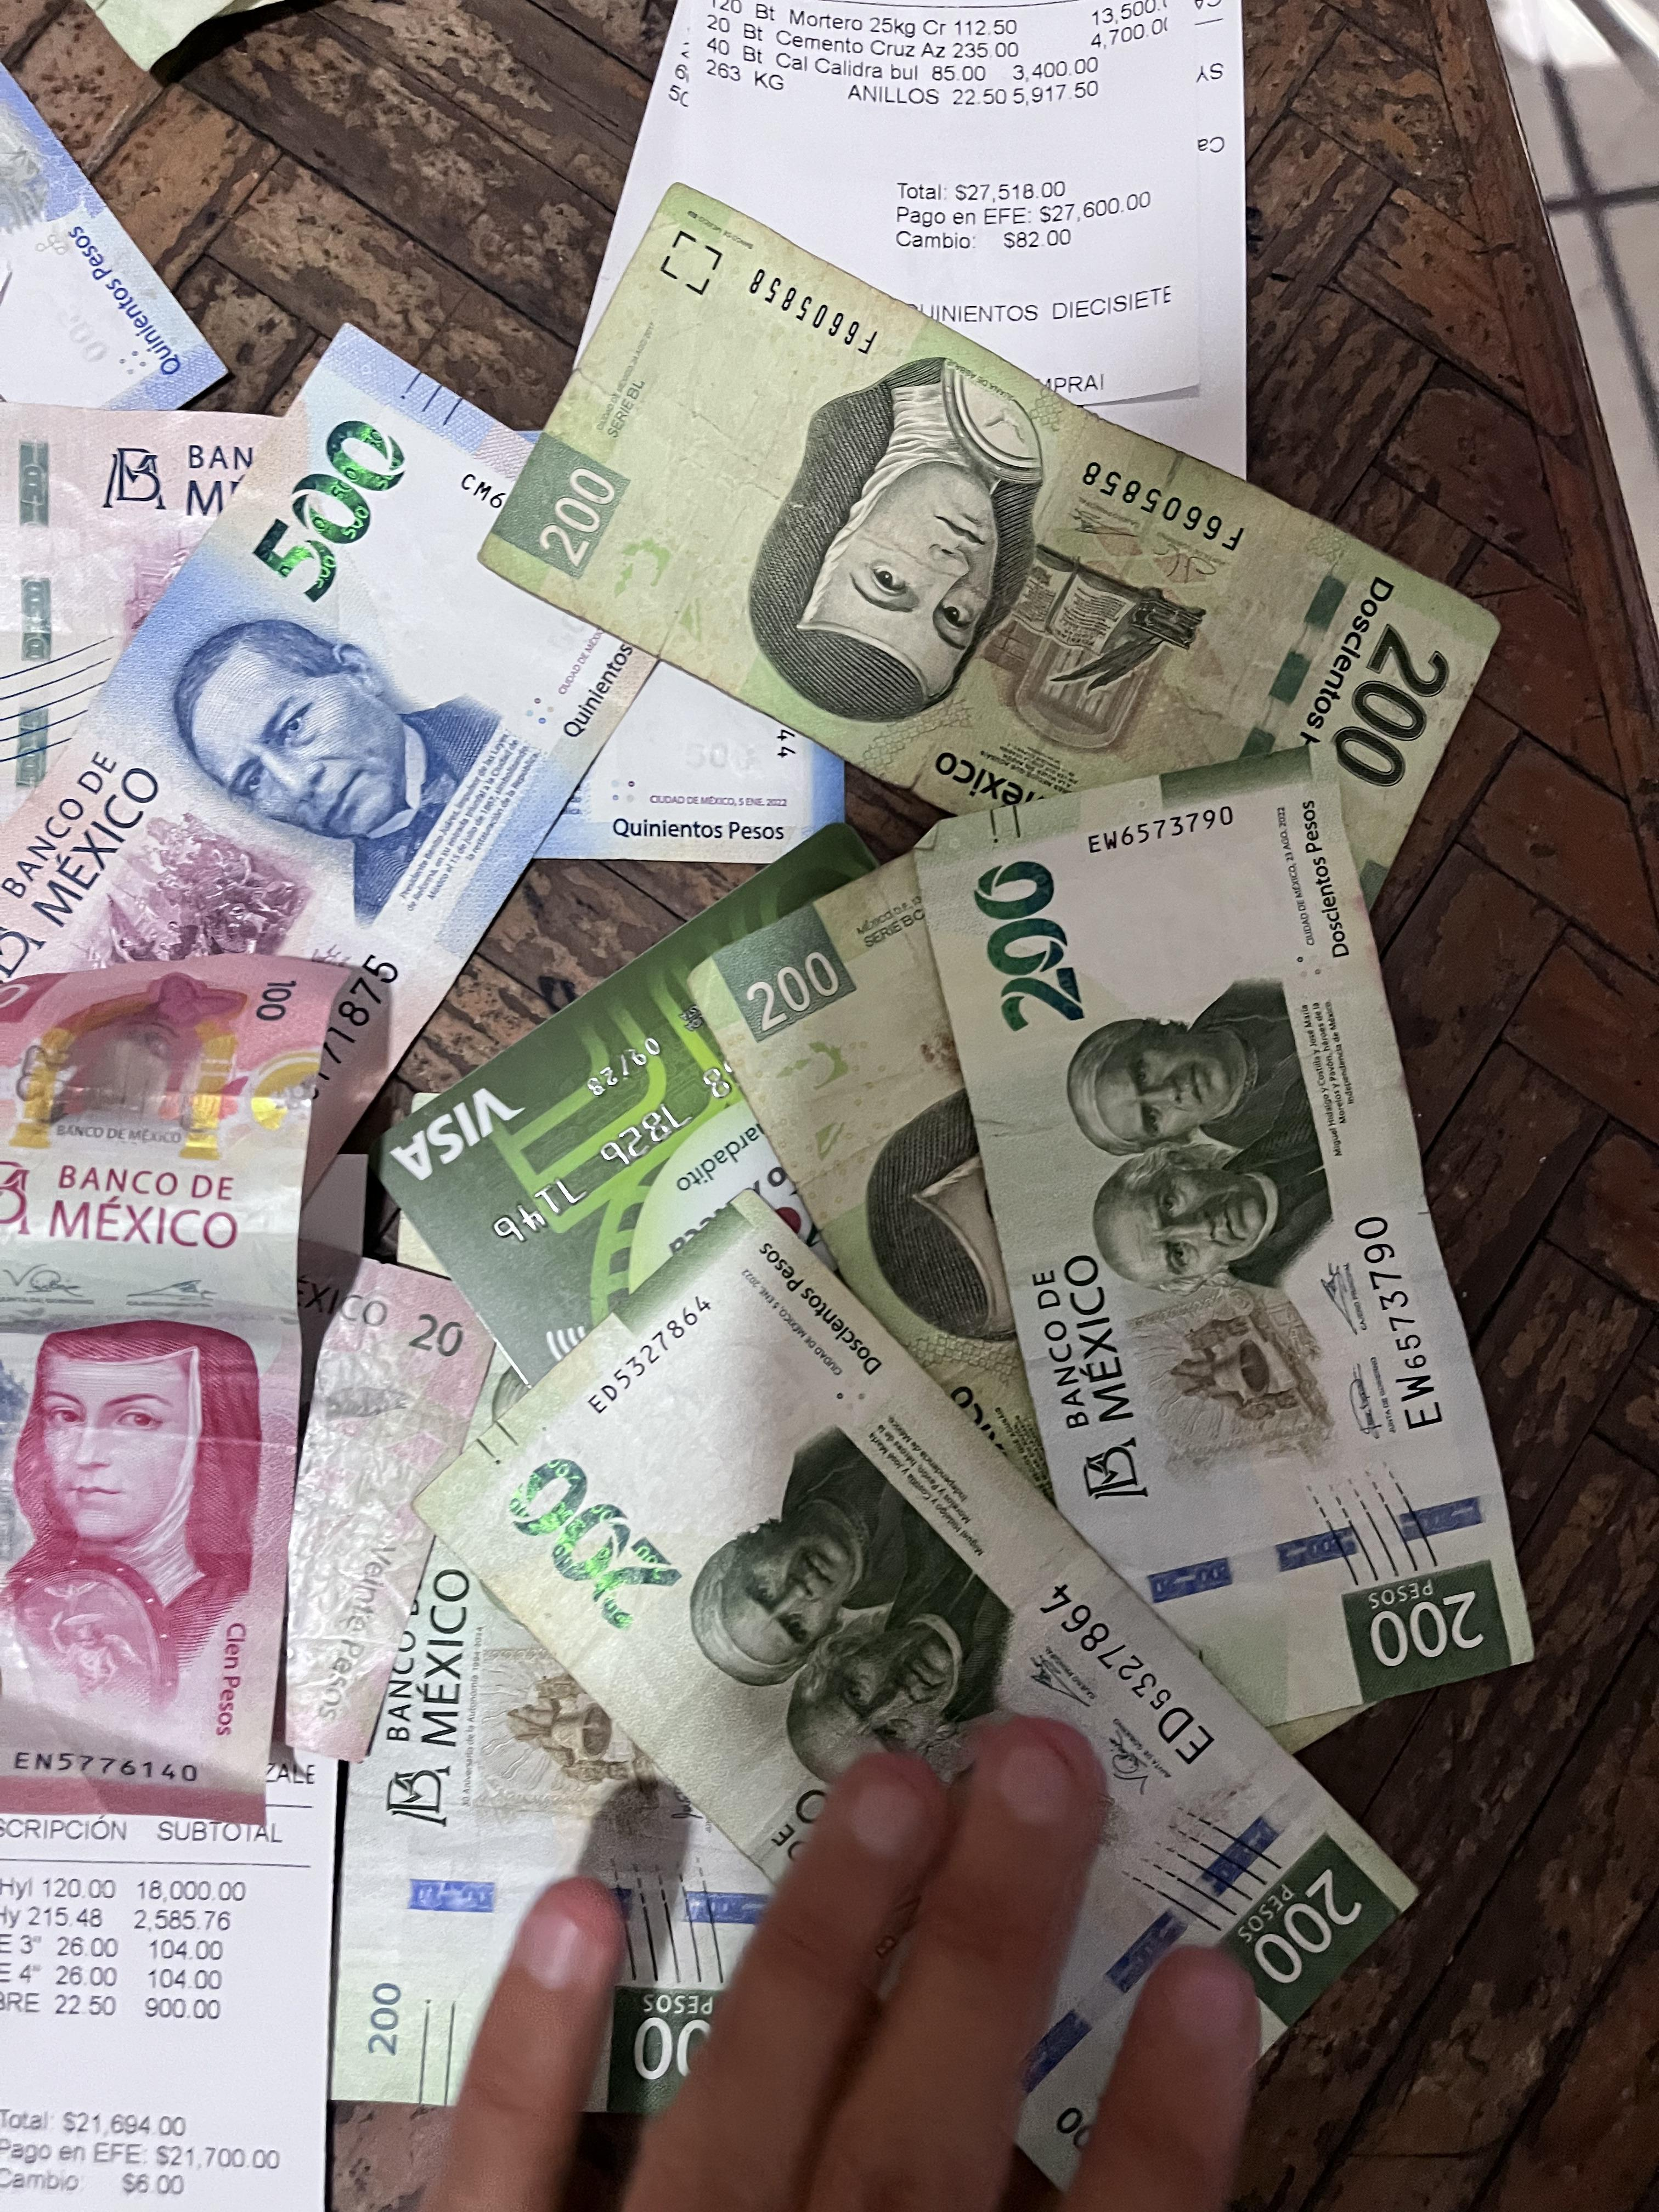100: (0, 939, 340, 1843)
200: (401, 1181, 1425, 2212), (481, 167, 1506, 944), (906, 725, 1546, 1750), (692, 855, 1134, 1503)
500 nuevo: (3, 322, 653, 1160), (0, 392, 882, 913)
